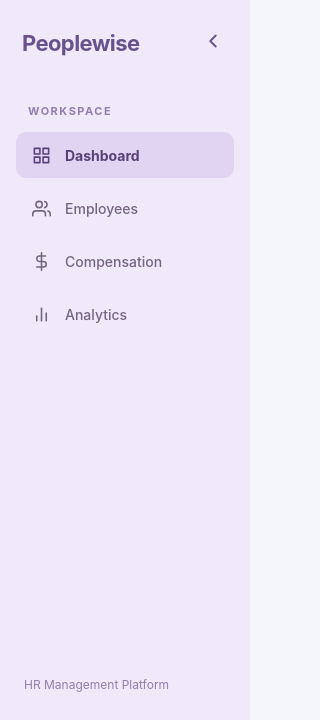
Test: Sidebar › expands the sidebar when the expand button is clicked
What coordinates should you click on to do the following:
click the button named "Collapse sidebar"
I would click on:
 (212, 43)
Its box is left=196, top=27, right=228, bottom=59.
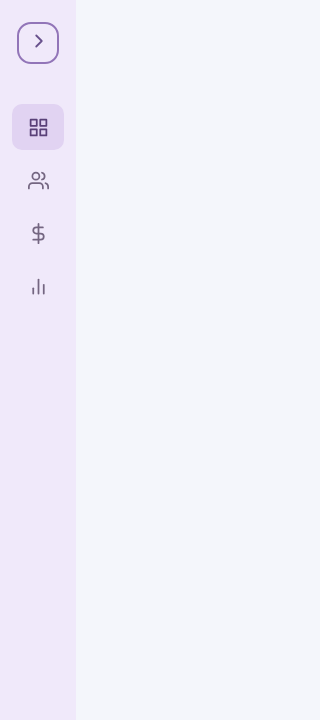
What coordinates should you click on to do the following:
click the button named "Expand sidebar"
I would click on:
 (38, 43)
Its box is left=22, top=27, right=54, bottom=59.
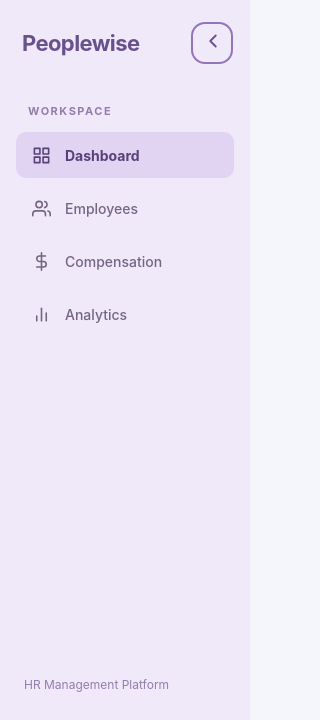
Expected: the heading "Peoplewise" is shown, left=22, top=30, right=139, bottom=56
Expected: the text "WORKSPACE" is shown, left=28, top=104, right=112, bottom=118
